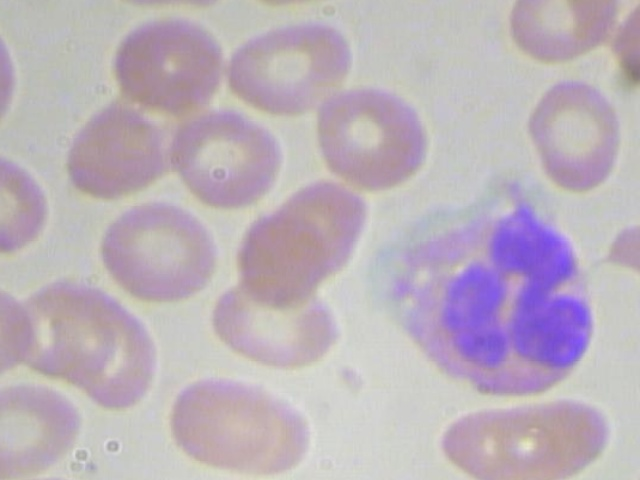RBC: (210, 4, 365, 116), (427, 391, 620, 480), (522, 70, 638, 194), (318, 72, 434, 196), (214, 199, 339, 312), (95, 193, 221, 305), (159, 362, 284, 474), (106, 11, 228, 109), (54, 99, 175, 197), (162, 108, 284, 205)
WBC: (368, 172, 599, 402)
